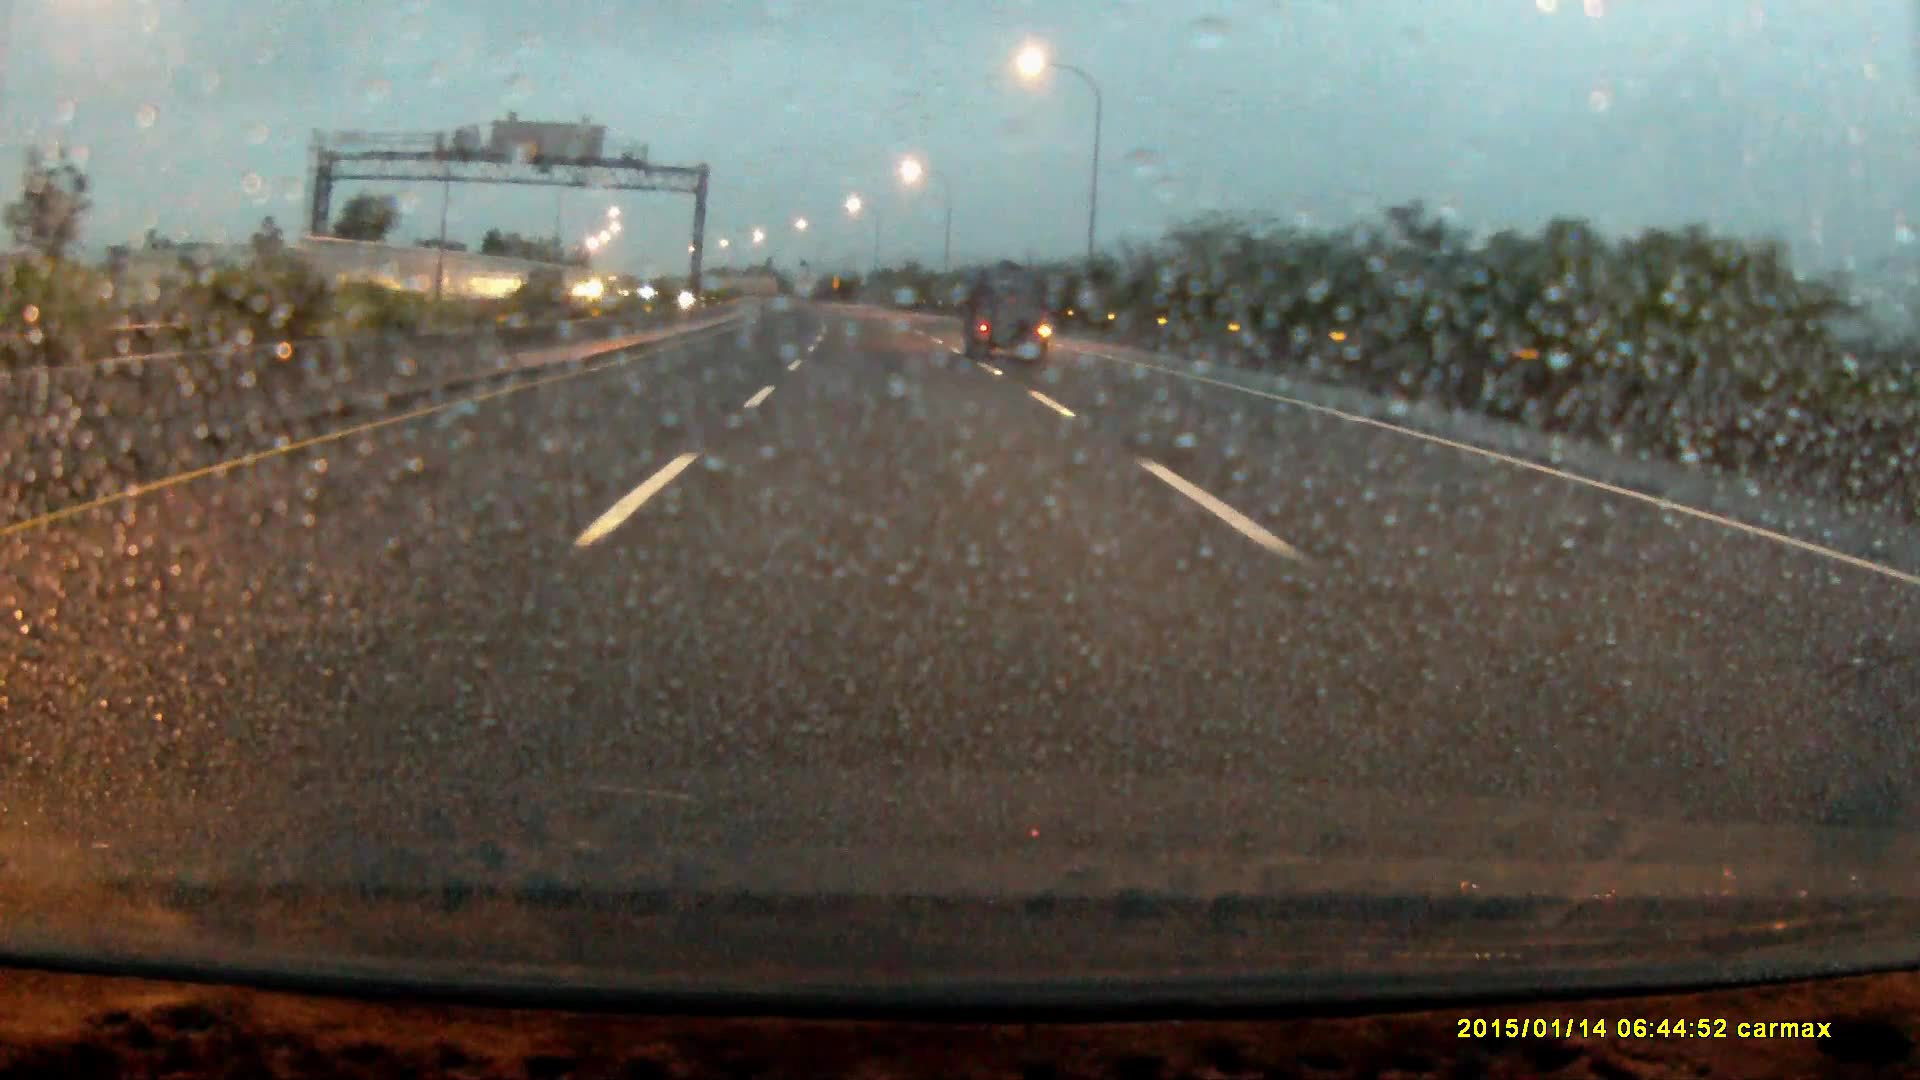vehicle: (968, 273, 1055, 363), (524, 266, 584, 311)
